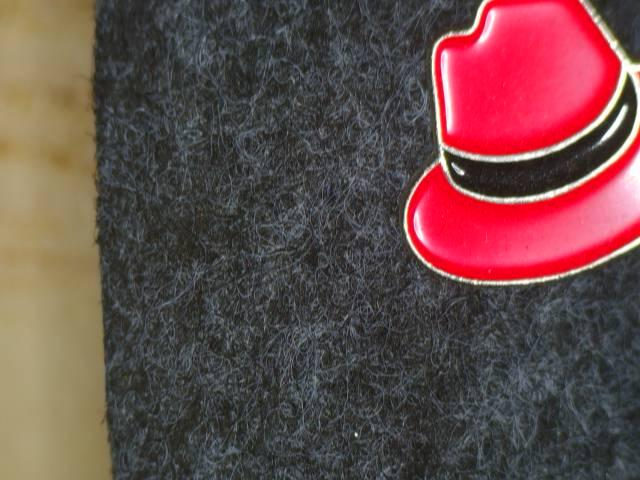Red-Hat: (379, 0, 640, 314)
